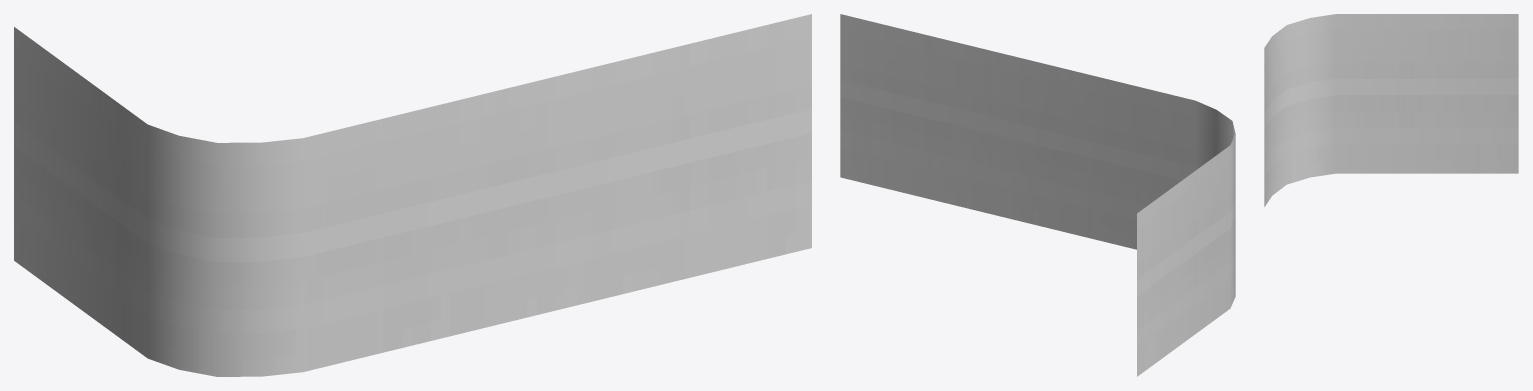
Rendered from pref_sm_city_holoall01b_snow_lv1.fbx.
The picture shows the model from 3 angles, left to right: view 1: azimuth 30°, elevation 25°; view 2: azimuth 150°, elevation 25°; view 3: azimuth 270°, elevation 25°; orthographic projection. The views are drawn at different scales.
Visible parts, largest first — view 1: pref_sm_city_holoall01b_snow_lv1; view 2: pref_sm_city_holoall01b_snow_lv1; view 3: pref_sm_city_holoall01b_snow_lv1.
Boxes of the visible parts, bbox=[...] form: pref_sm_city_holoall01b_snow_lv1: bbox=[14, 14, 811, 376]; pref_sm_city_holoall01b_snow_lv1: bbox=[840, 14, 1235, 376]; pref_sm_city_holoall01b_snow_lv1: bbox=[1264, 14, 1518, 206].
Bounding box in the file's own units: 13.32 × 4.87 × 7.04.
